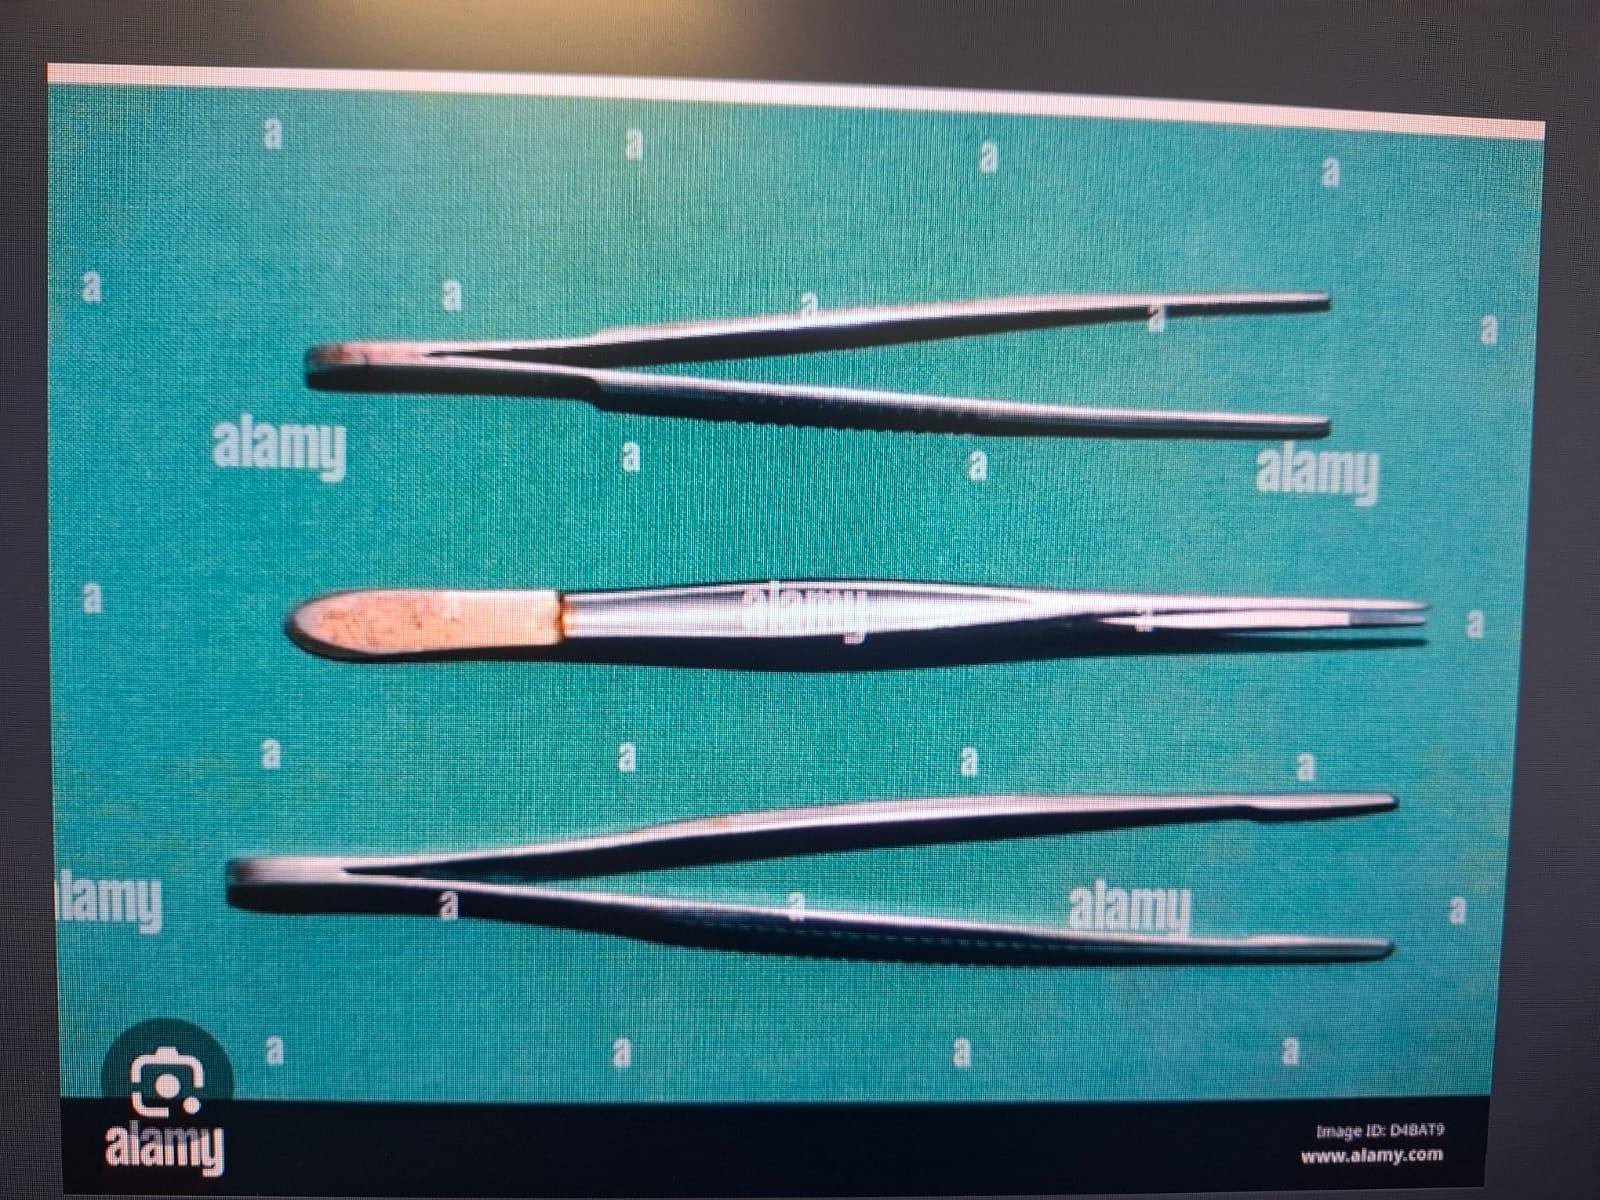Disscting Forceps: (210, 763, 1430, 995), (282, 221, 1358, 466), (280, 542, 1454, 692)
